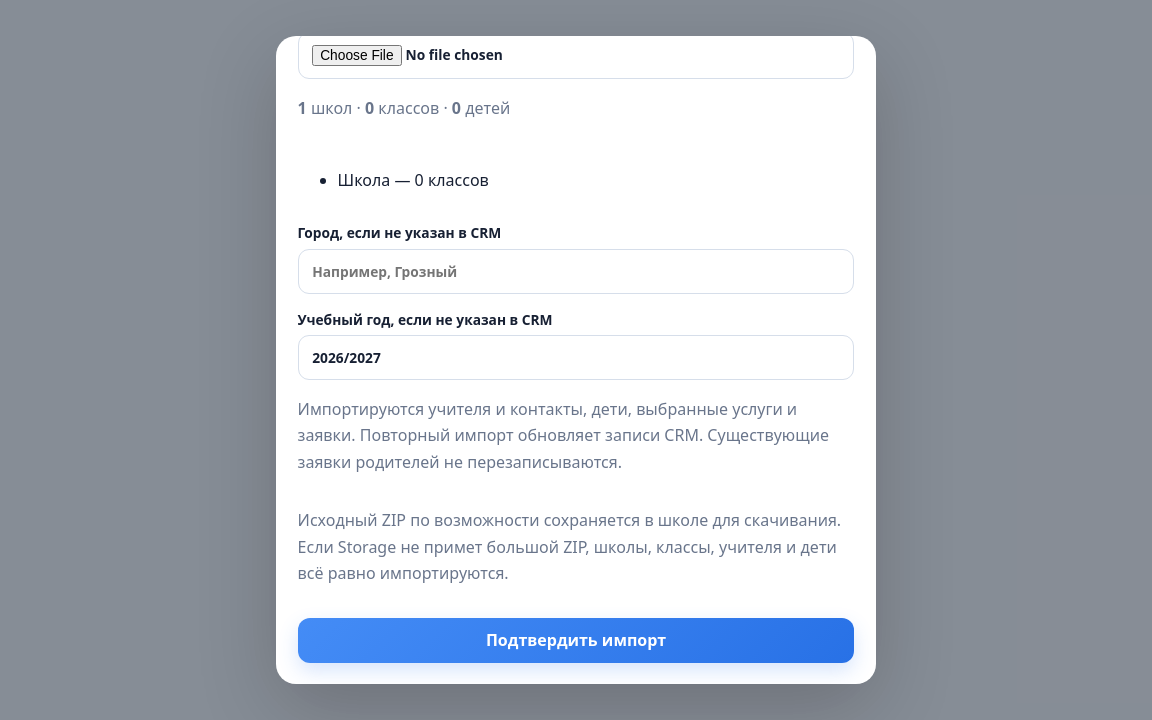
Test: project import confirmation › shows database failure and does not claim success
Earlier steps of the test are not shown.
(page scrolled)
What coordinates should you click on to do the following:
click the button "Подтвердить импорт"
I would click on:
 (576, 640)
Its box is [298,618,854,663].
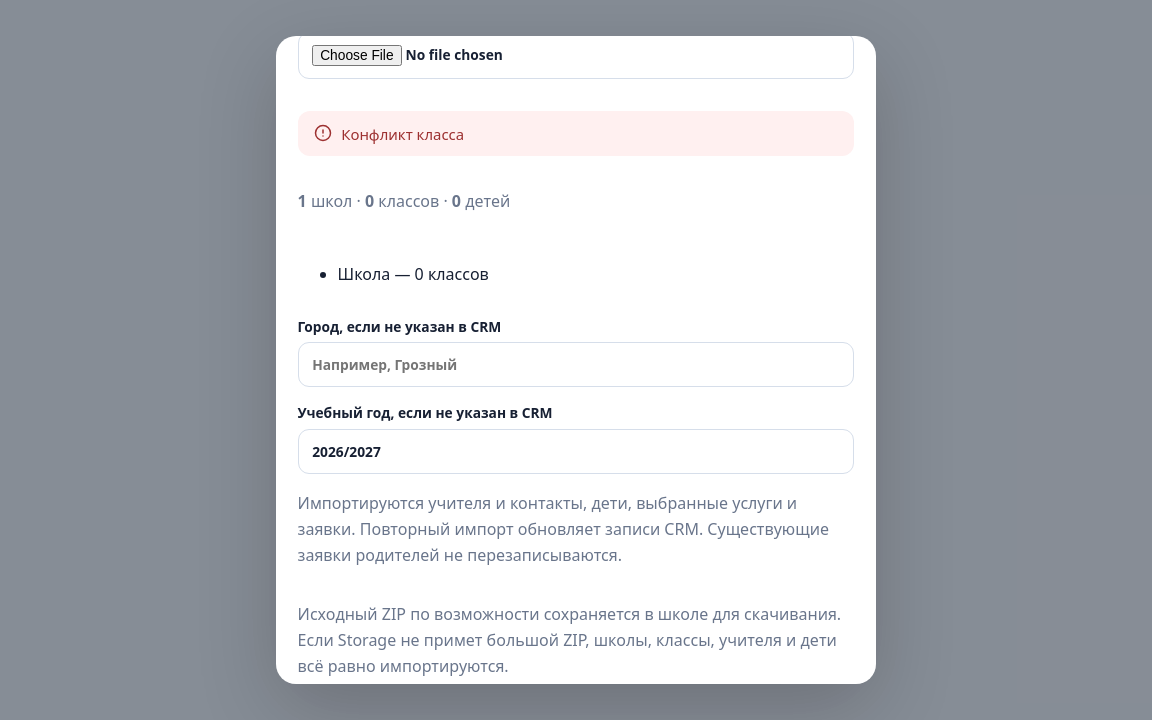
Check: the message reads "Конфликт класса", box [341,124,464,144]
